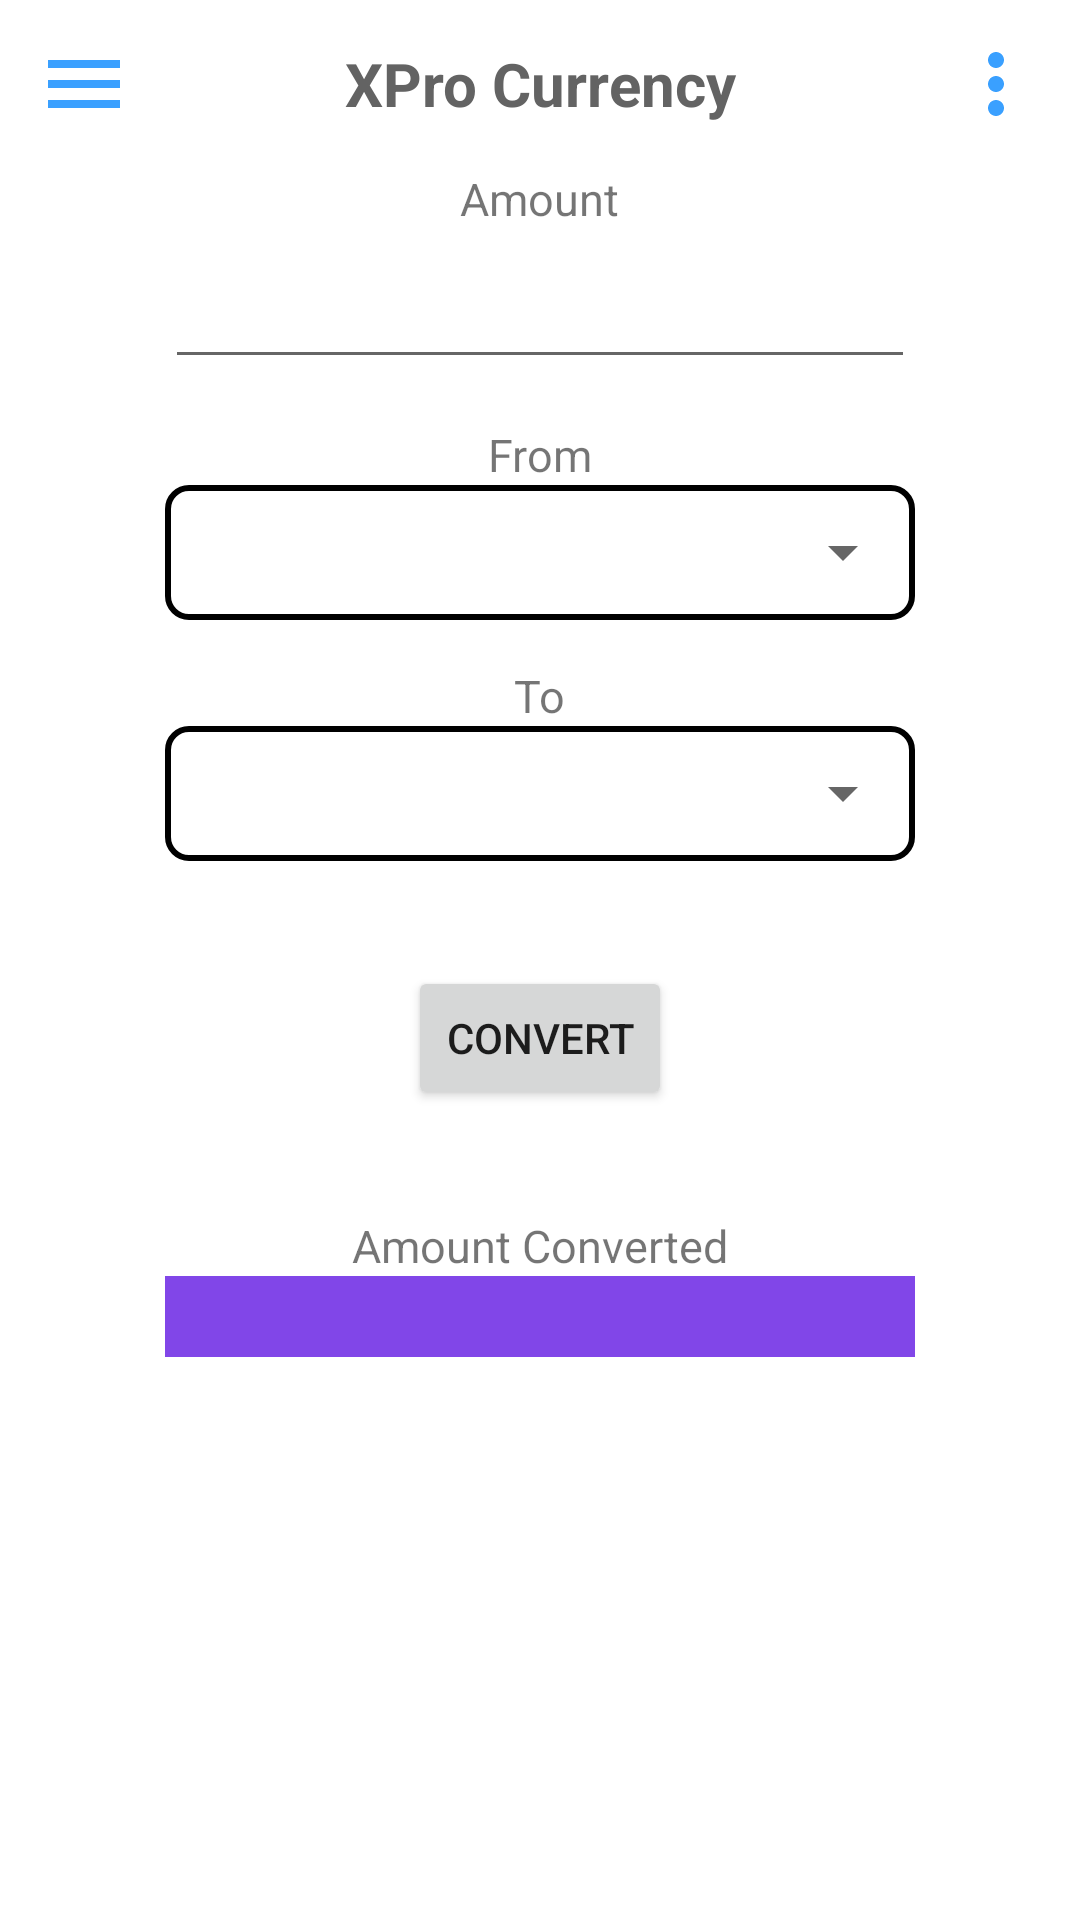

Icon bounding boxes for this 1080*1920 phone screenshot, format (x1, y1, x2, y2):
menu: (48, 60, 120, 108)
more: (988, 52, 1004, 116)
